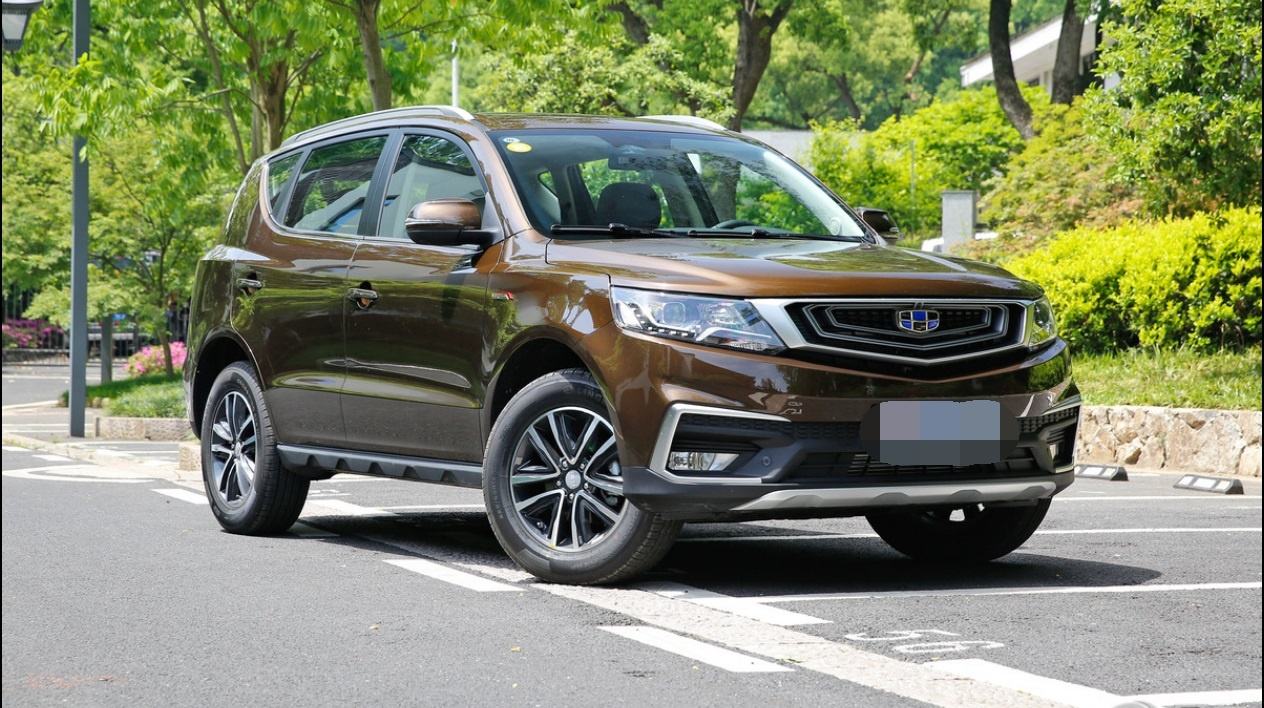SUV: (178, 75, 1084, 595)
